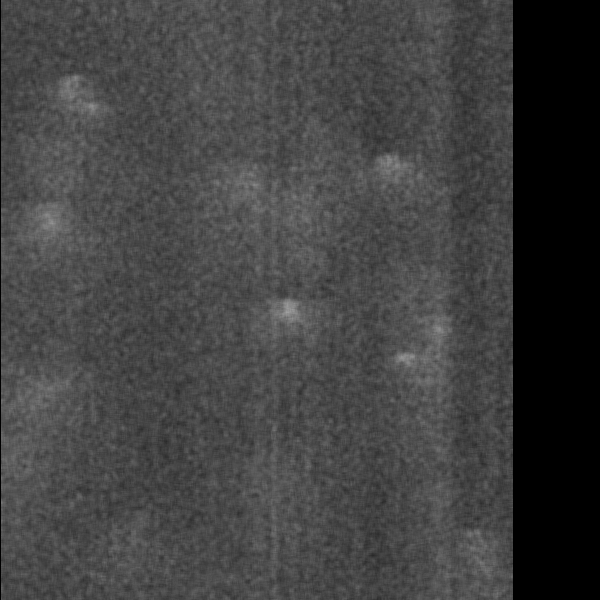spark: (20, 376, 82, 430), (212, 160, 250, 228), (268, 293, 310, 340), (379, 150, 414, 205), (52, 94, 116, 122), (35, 199, 66, 256), (382, 350, 438, 370)
